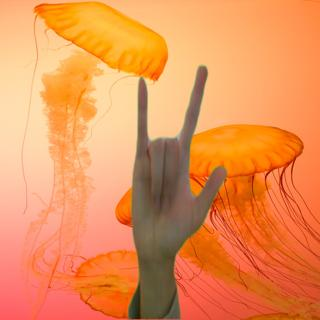ILY: (126, 63, 231, 269)
